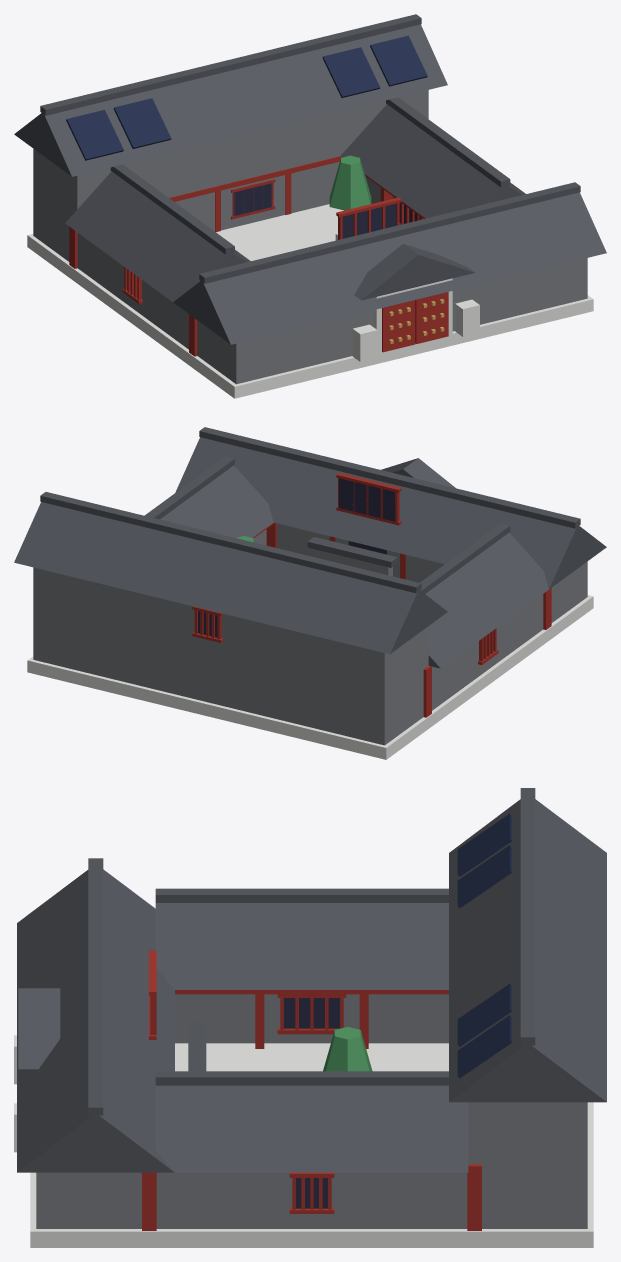
File: house-2x2-2f-siheyuan-a-solar.glb
3 renders of one model, top to bottom at view 1: azimuth 30°, elevation 25°; view 2: azimuth 150°, elevation 25°; view 3: azimuth 270°, elevation 25°, orthographic. The views are drawn at different scales.
Visible parts, largest first — view 1: house-2x2-2f-siheyuan-a-solar; view 2: house-2x2-2f-siheyuan-a-solar; view 3: house-2x2-2f-siheyuan-a-solar.
Boxes of the visible parts, x1=… form: house-2x2-2f-siheyuan-a-solar: x1=14, y1=14, x2=606, y2=398; house-2x2-2f-siheyuan-a-solar: x1=14, y1=427, x2=606, y2=759; house-2x2-2f-siheyuan-a-solar: x1=14, y1=788, x2=606, y2=1247.
Size of the model in its own units: 1.98 by 0.8 by 1.99.
1 material, 1 textured.
